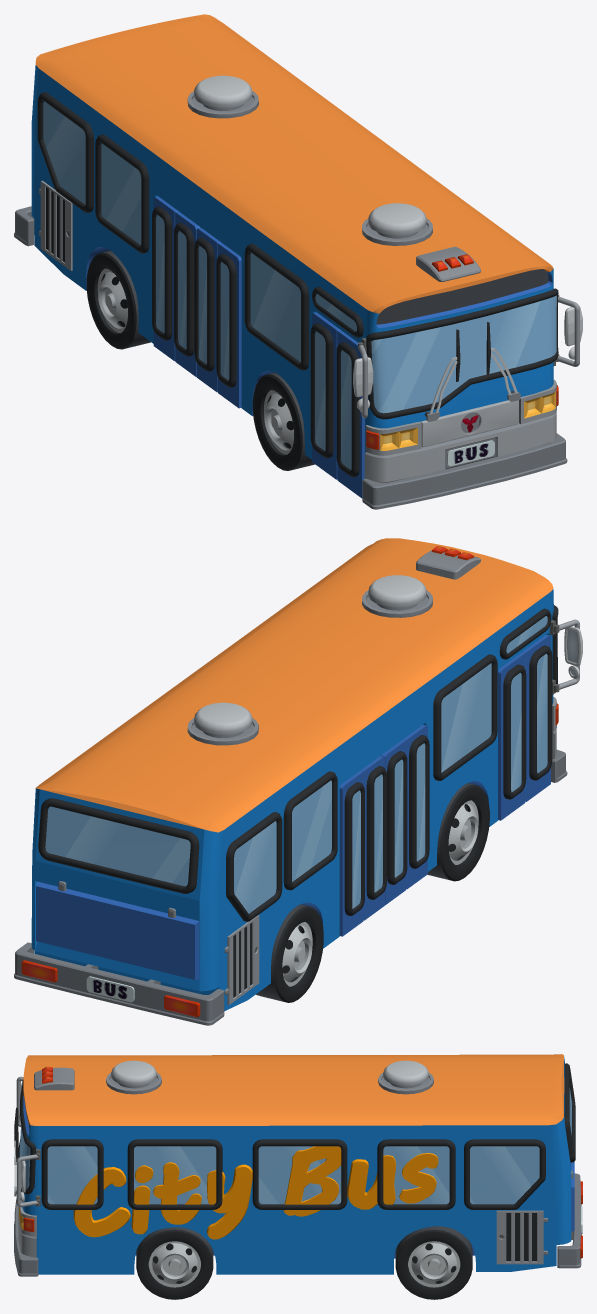
File: CityBus_GRP.fbx
3 views of the same model, one above another, from view 1: azimuth 30°, elevation 25°; view 2: azimuth 150°, elevation 25°; view 3: azimuth 270°, elevation 25° (orthographic). The views are drawn at different scales.
Visible parts, largest first — view 1: CityBus_mesh, CityBus_Wheel_BR_mesh, CityBus_Wheel_FR_mesh; view 2: CityBus_mesh, CityBus_Wheel_BR_mesh, CityBus_Wheel_FR_mesh; view 3: CityBus_mesh, CityBus_Wheel_BL_mesh, CityBus_Wheel_FL_mesh.
Boxes of the visible parts, x1=… form: CityBus_mesh: x1=14, y1=14, x2=582, y2=509; CityBus_Wheel_BR_mesh: x1=86, y1=250, x2=150, y2=349; CityBus_Wheel_FR_mesh: x1=252, y1=372, x2=314, y2=470; CityBus_mesh: x1=14, y1=538, x2=582, y2=1025; CityBus_Wheel_BR_mesh: x1=256, y1=904, x2=323, y2=1002; CityBus_Wheel_FR_mesh: x1=427, y1=783, x2=489, y2=881; CityBus_mesh: x1=14, y1=1054, x2=582, y2=1276; CityBus_Wheel_BL_mesh: x1=395, y1=1226, x2=472, y2=1299; CityBus_Wheel_FL_mesh: x1=136, y1=1227, x2=213, y2=1299.
Bounding box in the file's own units: 2.2 × 2.31 × 6.07.
